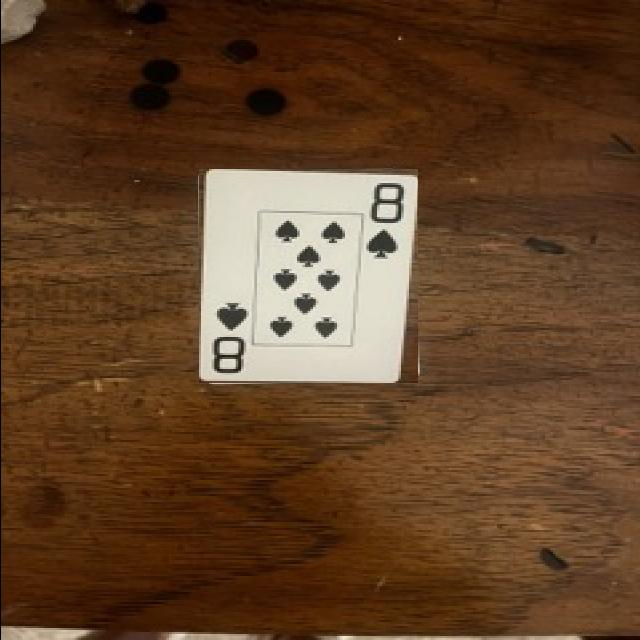8 of spades: (198, 170, 417, 383)
